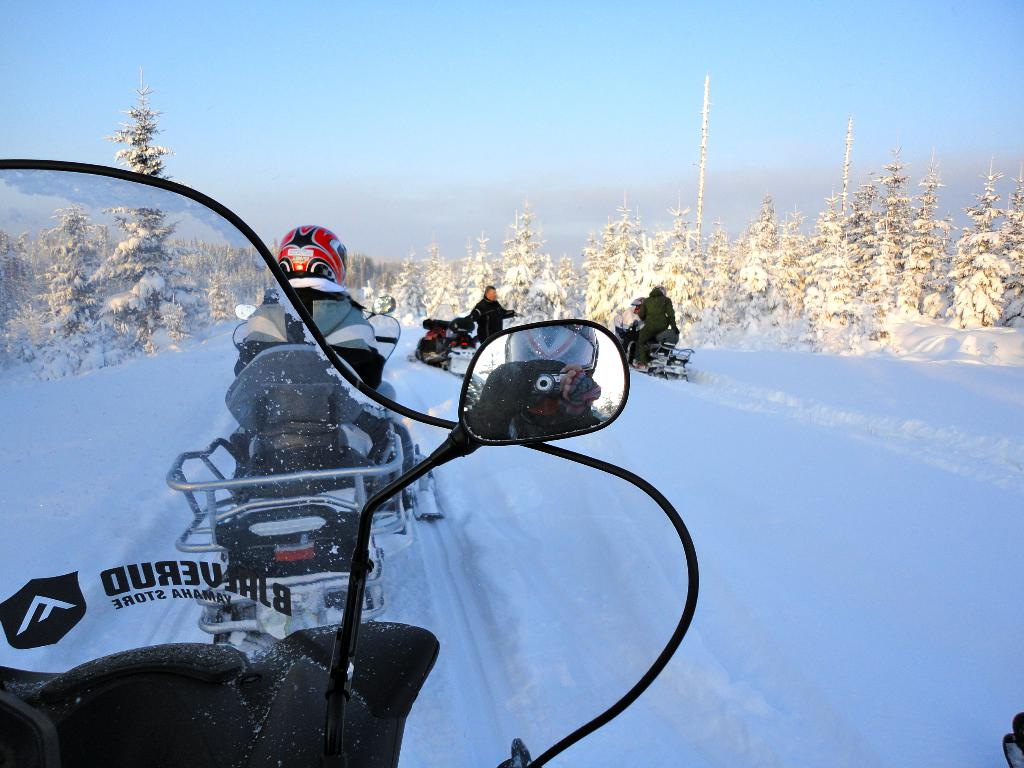Tree: (0, 66, 1023, 380)
